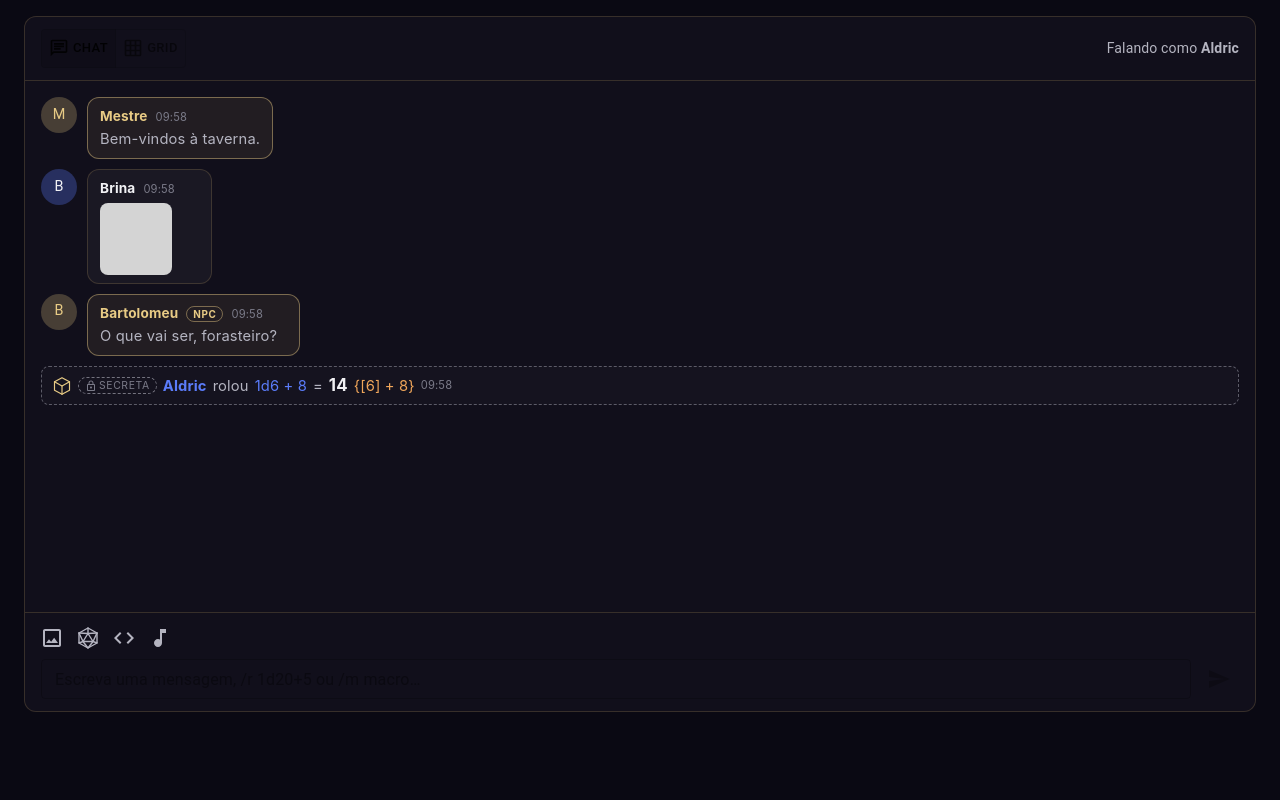
Test: CampanhaChat › macros › erro na macro aparece para o jogador e nada é publicado
The width and height of the screenshot is (1280, 800).
Expected: the text "Bem-vindos à taverna." is shown, [100, 128, 260, 150]
Click the button named "Macros" at point(124, 638), box [107, 621, 141, 655]
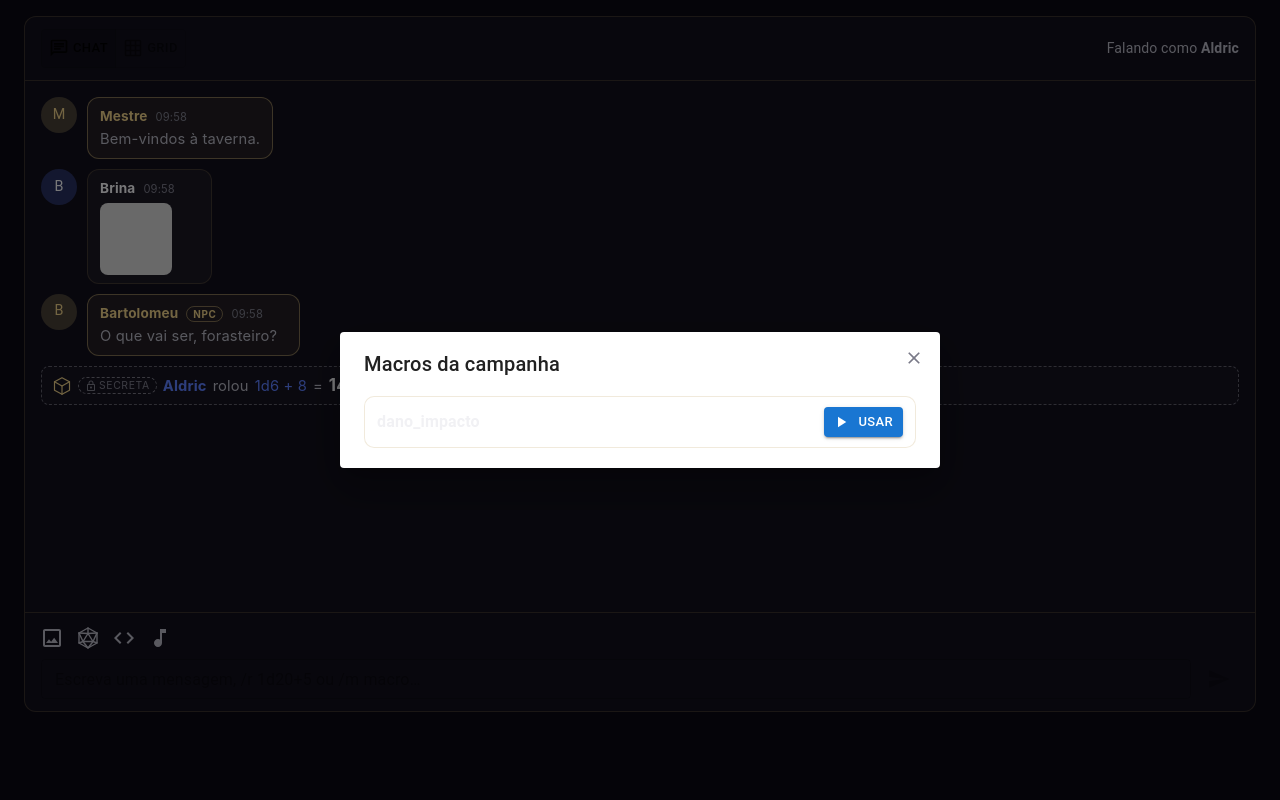
Click the button with aria-label "Usar dano_impacto" at point(864, 422), box [824, 407, 903, 437]
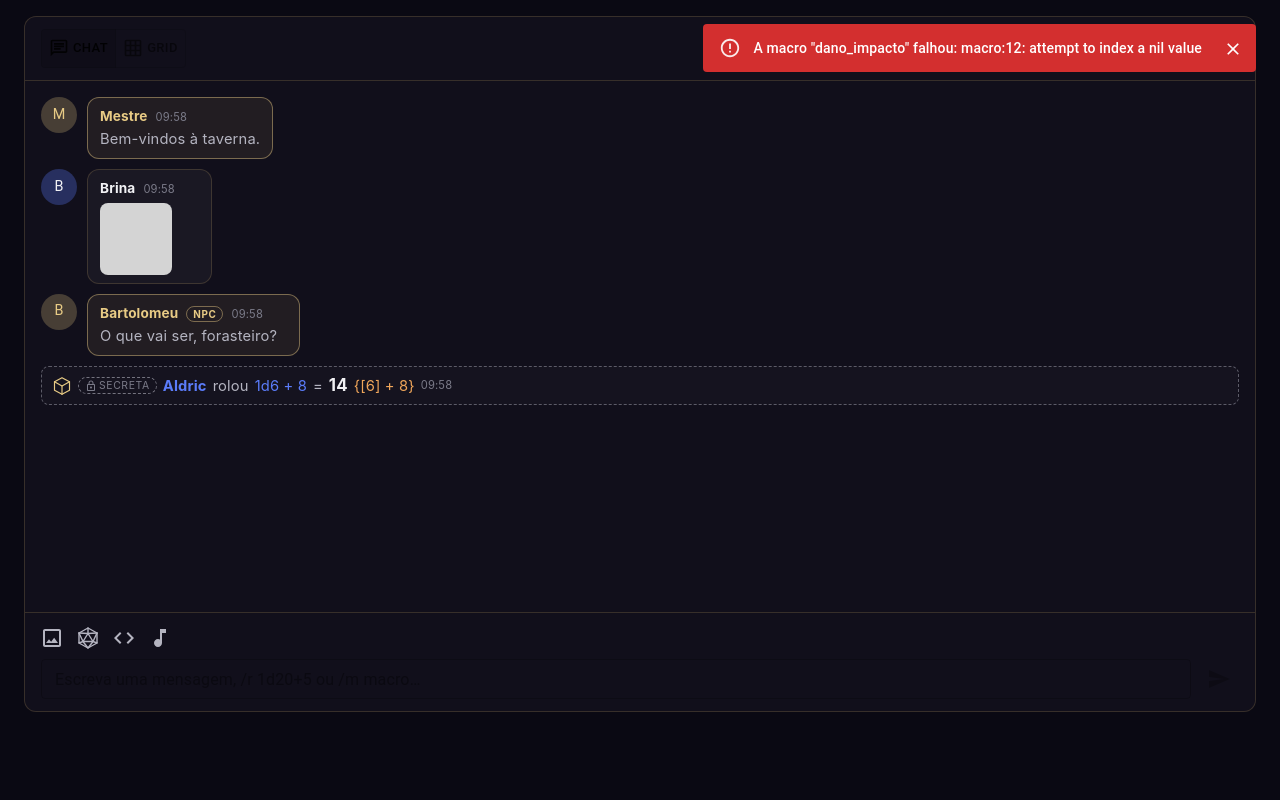
Expected: the text "A macro \"dano_impacto\" falhou: macro:12: attempt to index a nil value" is shown, [753, 40, 1202, 56]
